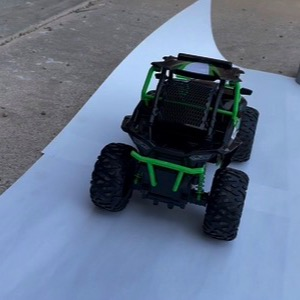polaris: (91, 52, 262, 242)
